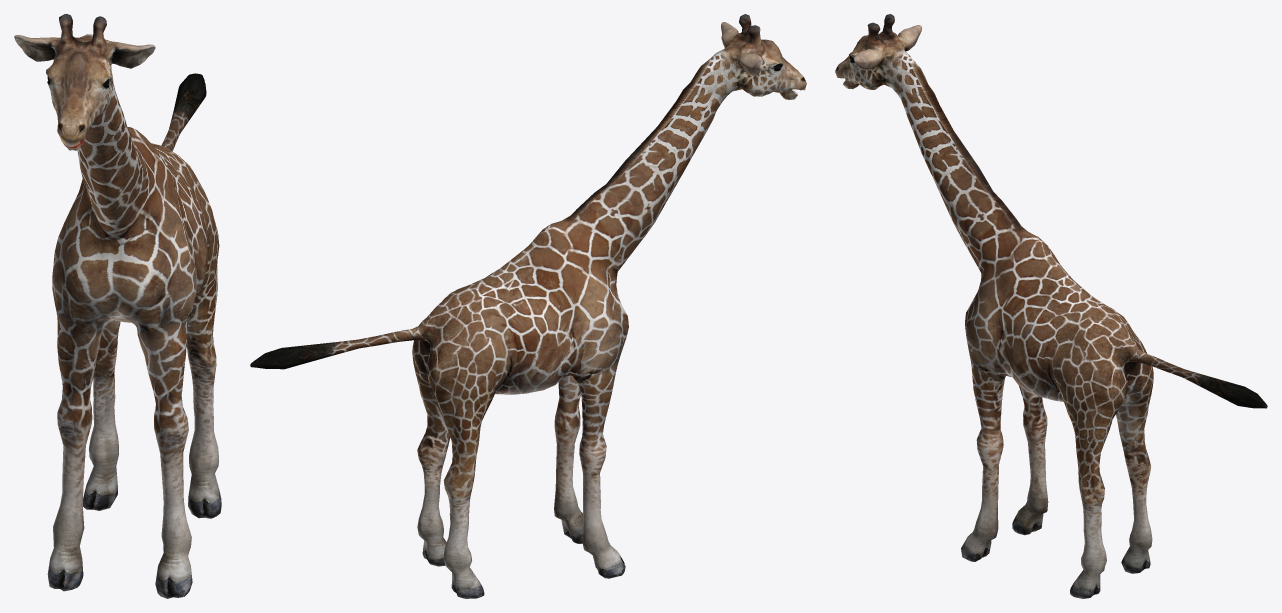
The model's file is giraffemotions.fbx.
3 views of the same model, side by side, from view 1: azimuth 30°, elevation 25°; view 2: azimuth 150°, elevation 25°; view 3: azimuth 270°, elevation 25° (orthographic). The views are drawn at different scales.
Visible parts, largest first — view 1: HP_Msh_0_Giraffe_Material_0; view 2: HP_Msh_0_Giraffe_Material_0; view 3: HP_Msh_0_Giraffe_Material_0.
Part boxes in pixels (<box>): HP_Msh_0_Giraffe_Material_0: <box>14,14,221,598</box>; HP_Msh_0_Giraffe_Material_0: <box>250,14,806,598</box>; HP_Msh_0_Giraffe_Material_0: <box>835,14,1267,598</box>.
Bounding box in the file's own units: 317 × 466 × 377.
